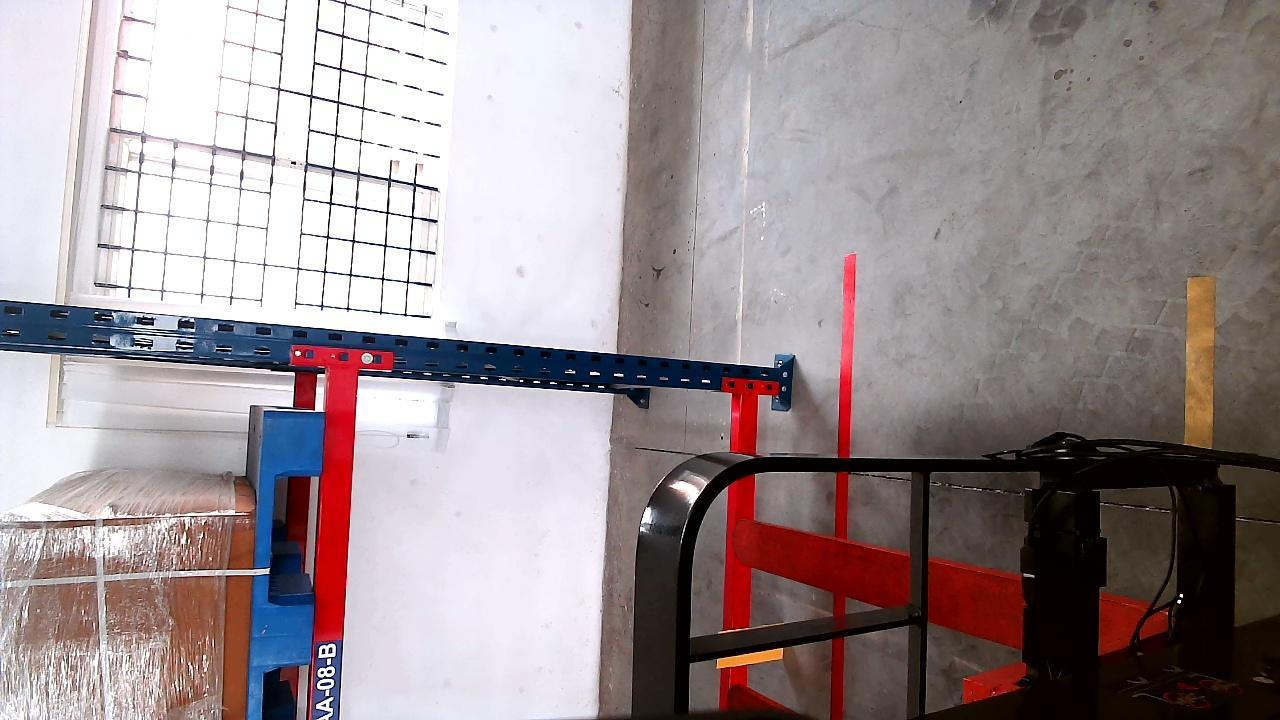red_line: (830, 254, 859, 717)
yellow_line: (1185, 277, 1213, 447)
